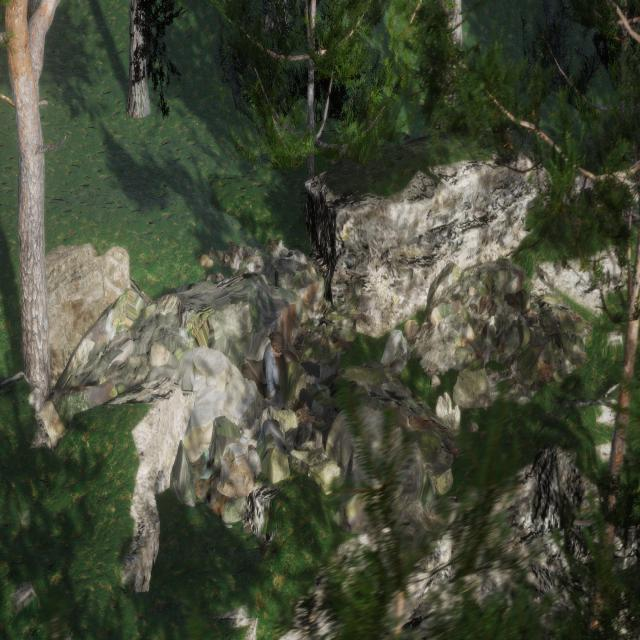Human: (261, 318, 352, 421)
